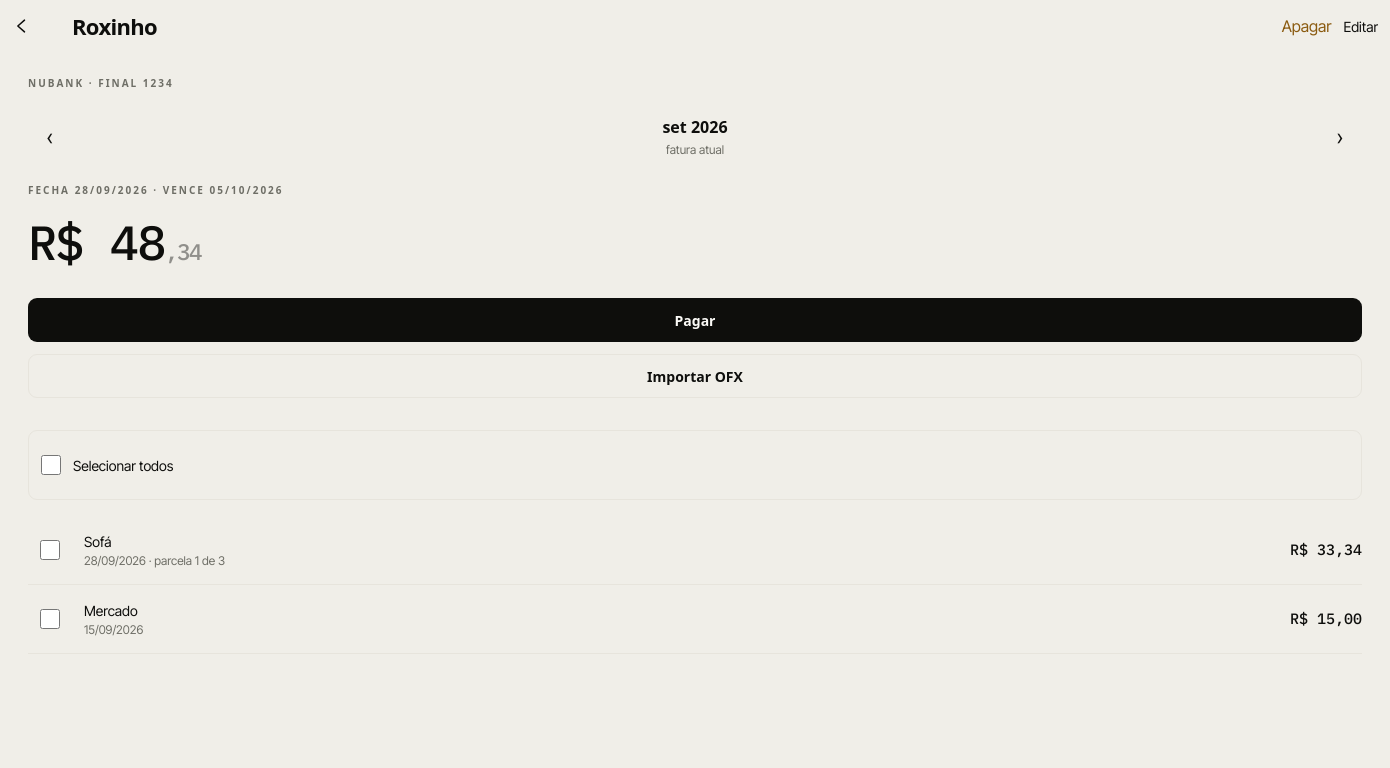
Test: CartaoDetalhe › mostra contagem de selecionados ao lado de 'Selecionar todos'
Click the checkbox named "Selecionar Sofá".
click(50, 550)  # box x1=40 y1=540 x2=60 y2=560
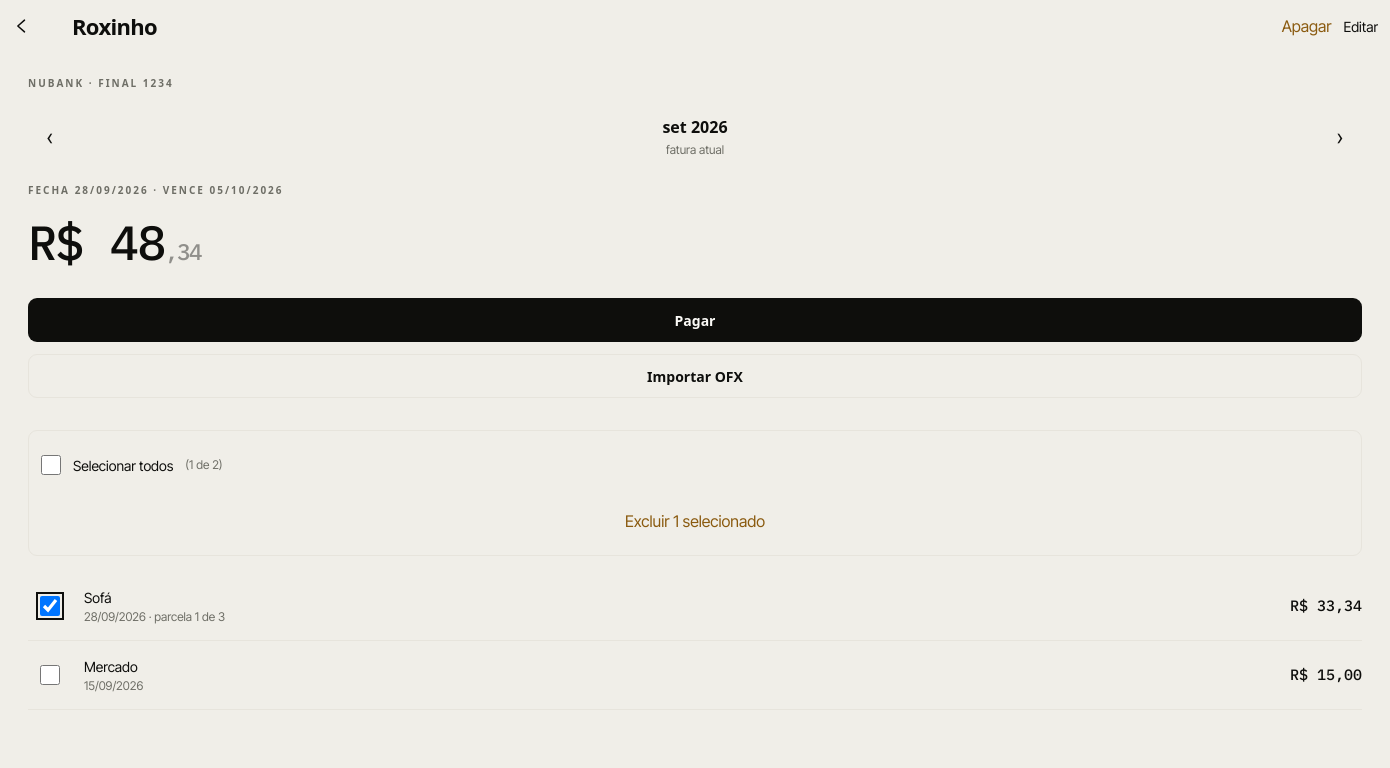
Check: the text "(1 de 2)" is shown, box x1=185 y1=456 x2=223 y2=474
